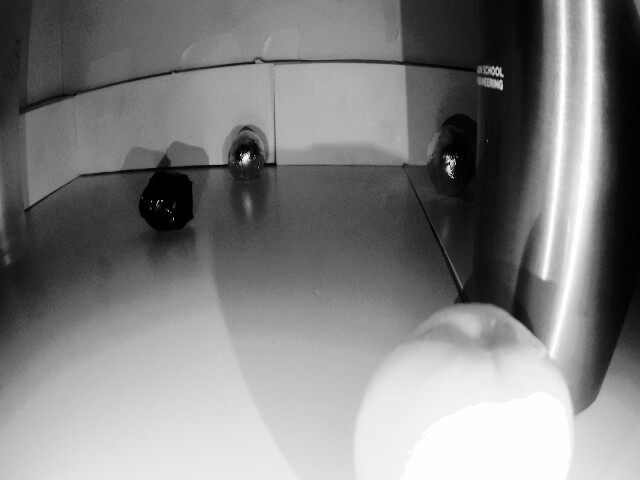black: (136, 174, 198, 235)
silver: (428, 118, 477, 202), (226, 130, 264, 182)
